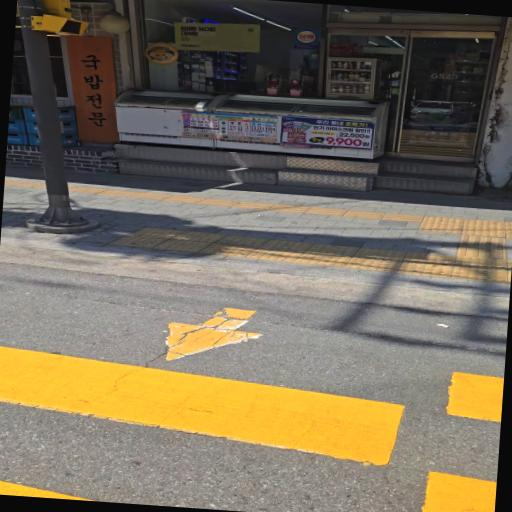yellow-crosswalk: (0, 275, 509, 512)
